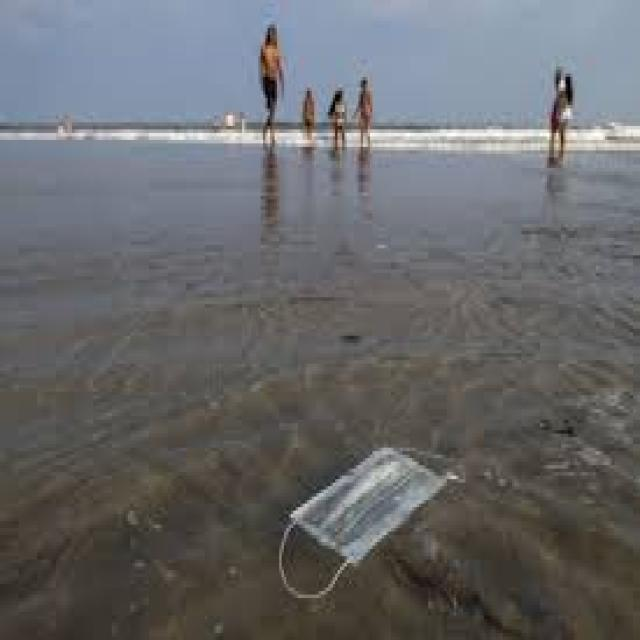litter: (263, 432, 487, 613)
